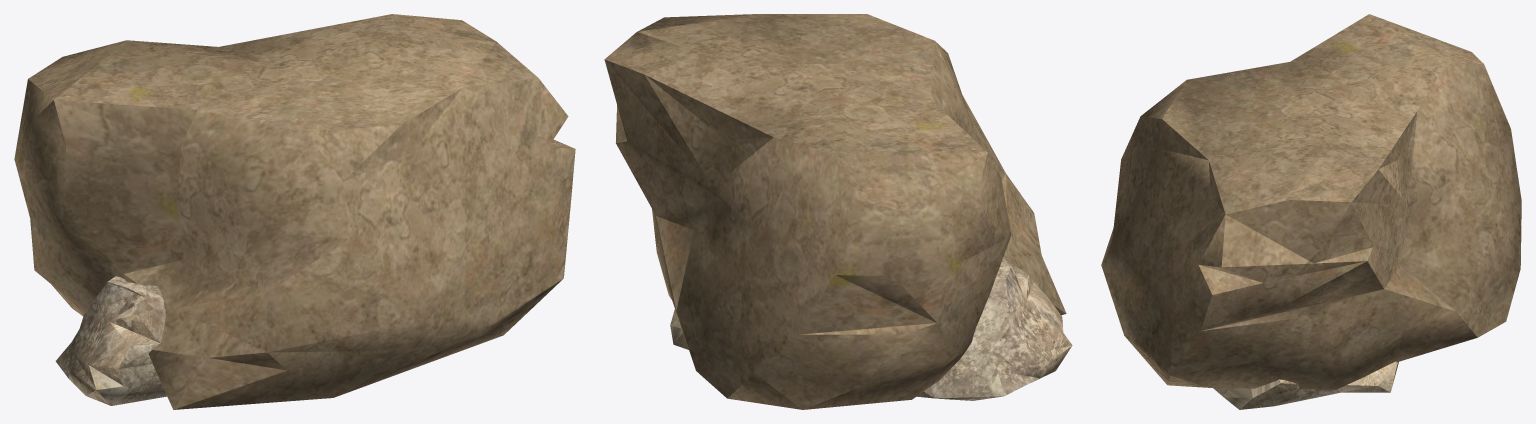
File: nature-rocks-lite.glb
The picture shows the model from 3 angles, left to right: view 1: azimuth 30°, elevation 25°; view 2: azimuth 150°, elevation 25°; view 3: azimuth 270°, elevation 25°; orthographic projection. The views are drawn at different scales.
Parts seen in each view (by area): view 1: cliff_chunk_lite, boulder_flat_lite; view 2: cliff_chunk_lite, boulder_flat_lite; view 3: cliff_chunk_lite, boulder_flat_lite.
Boxes of the visible parts, x1,y1,x2,y2 form: cliff_chunk_lite: [14, 14, 575, 409]; boulder_flat_lite: [55, 276, 166, 405]; cliff_chunk_lite: [604, 14, 1066, 409]; boulder_flat_lite: [670, 258, 1072, 400]; cliff_chunk_lite: [1101, 14, 1521, 389]; boulder_flat_lite: [1213, 361, 1398, 409].
Size of the model in its own units: 6.31 by 3.74 by 5.44.
Materials: 1 (1 with a texture image).
